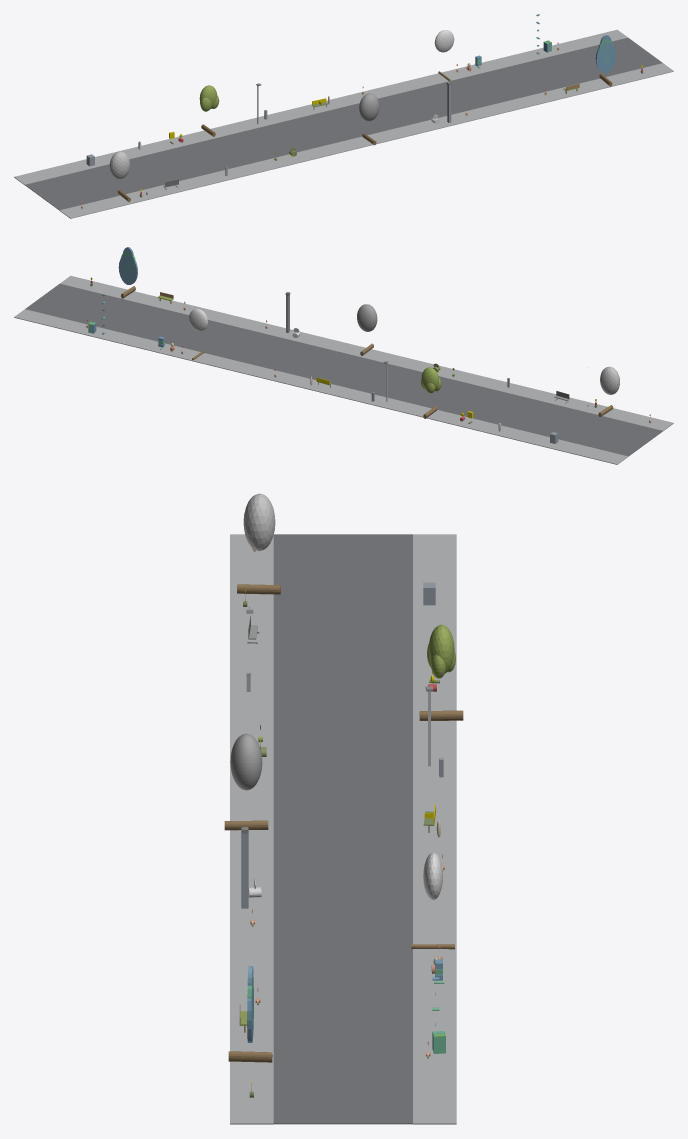
3 renders of one model, top to bottom at view 1: azimuth 30°, elevation 25°; view 2: azimuth 150°, elevation 25°; view 3: azimuth 270°, elevation 25°, orthographic. The views are drawn at different scales.
Parts seen in each view (by area): view 1: road_slab, sidewalk_left, sidewalk_right, inst_0016, inst_0012, inst_0014, inst_0013, inst_0015; view 2: road_slab, sidewalk_right, sidewalk_left, inst_0016, inst_0012, inst_0014, inst_0013, inst_0015; view 3: road_slab, sidewalk_right, sidewalk_left, inst_0012, inst_0014, inst_0013, inst_0016, inst_0015.
Boxes of the visible parts, left/top/right/bottom form: road_slab: left=25, top=37, right=662, bottom=210; sidewalk_left: left=59, top=63, right=673, bottom=218; sidewalk_right: left=14, top=29, right=627, bottom=185; inst_0016: left=595, top=35, right=615, bottom=86; inst_0012: left=109, top=151, right=130, bottom=201; inst_0014: left=359, top=93, right=379, bottom=145; inst_0013: left=199, top=85, right=219, bottom=136; inst_0015: left=434, top=30, right=454, bottom=81; road_slab: left=25, top=283, right=662, bottom=456; sidewalk_right: left=14, top=309, right=628, bottom=464; sidewalk_left: left=60, top=275, right=673, bottom=431; inst_0016: left=118, top=247, right=137, bottom=298; inst_0012: left=598, top=366, right=619, bottom=416; inst_0014: left=357, top=304, right=377, bottom=355; inst_0013: left=421, top=367, right=441, bottom=418; inst_0015: left=189, top=308, right=207, bottom=360; road_slab: left=273, top=534, right=412, bottom=1124; sidewalk_right: left=413, top=534, right=456, bottom=1124; sidewalk_left: left=230, top=534, right=273, bottom=1124; inst_0012: left=237, top=493, right=280, bottom=594; inst_0014: left=224, top=733, right=268, bottom=830; inst_0013: left=419, top=624, right=463, bottom=720; inst_0016: left=228, top=966, right=272, bottom=1062; inst_0015: left=411, top=852, right=454, bottom=949.
Bounding box in the file's own units: 80 × 6.08 × 13.71.
